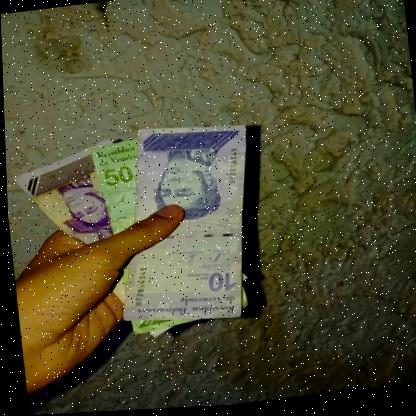vef_front: (100, 118, 264, 334), (7, 139, 129, 319), (87, 140, 151, 291)
